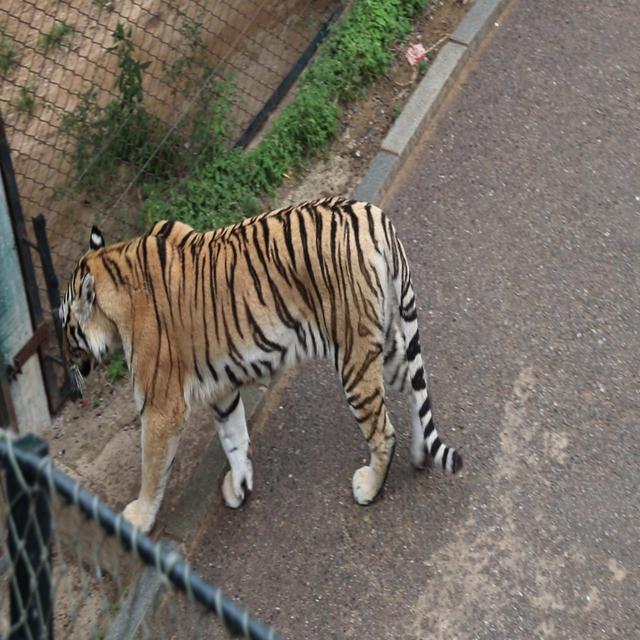tiger: (52, 192, 464, 535)
